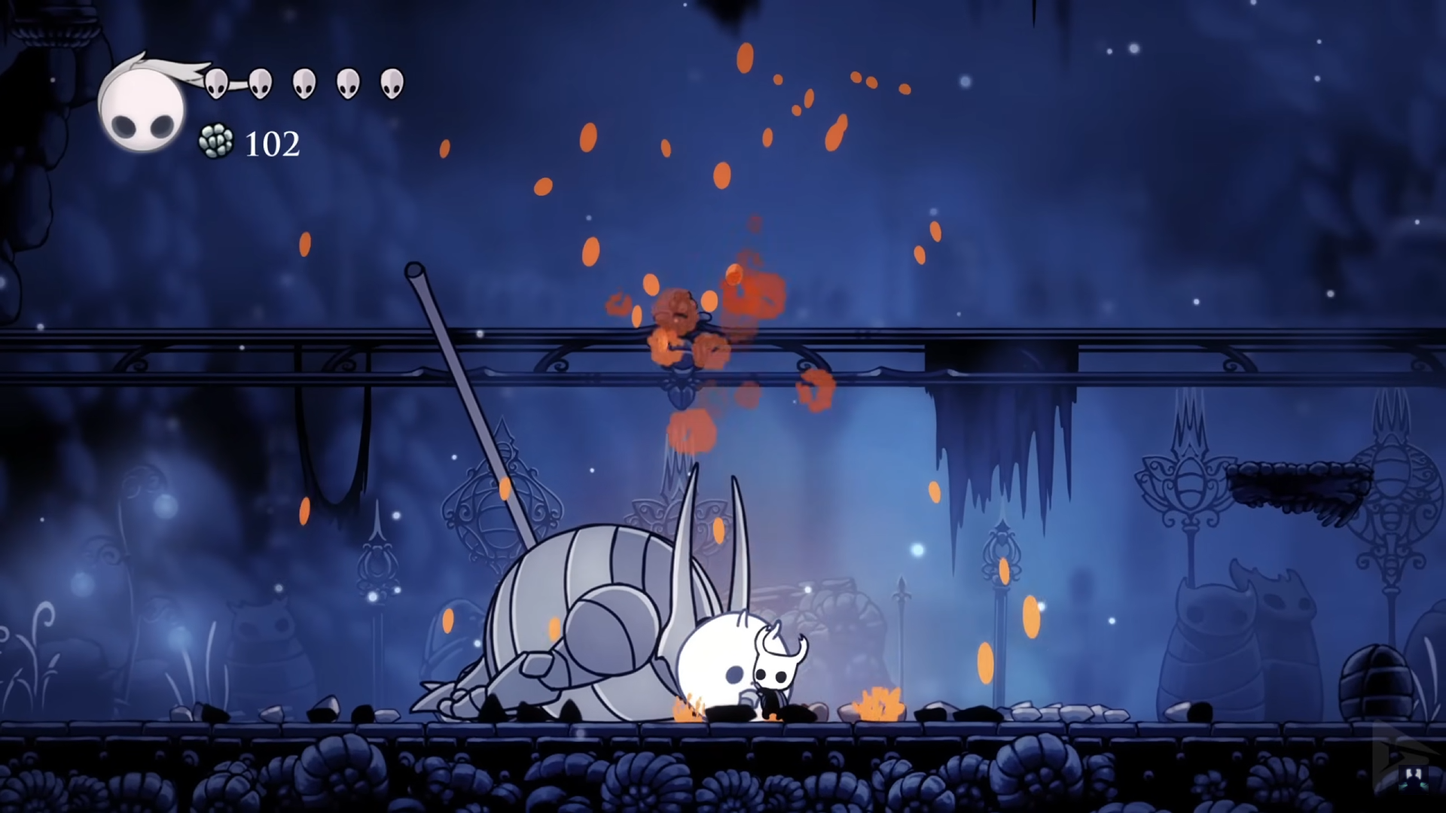HK: (748, 617, 810, 726)
